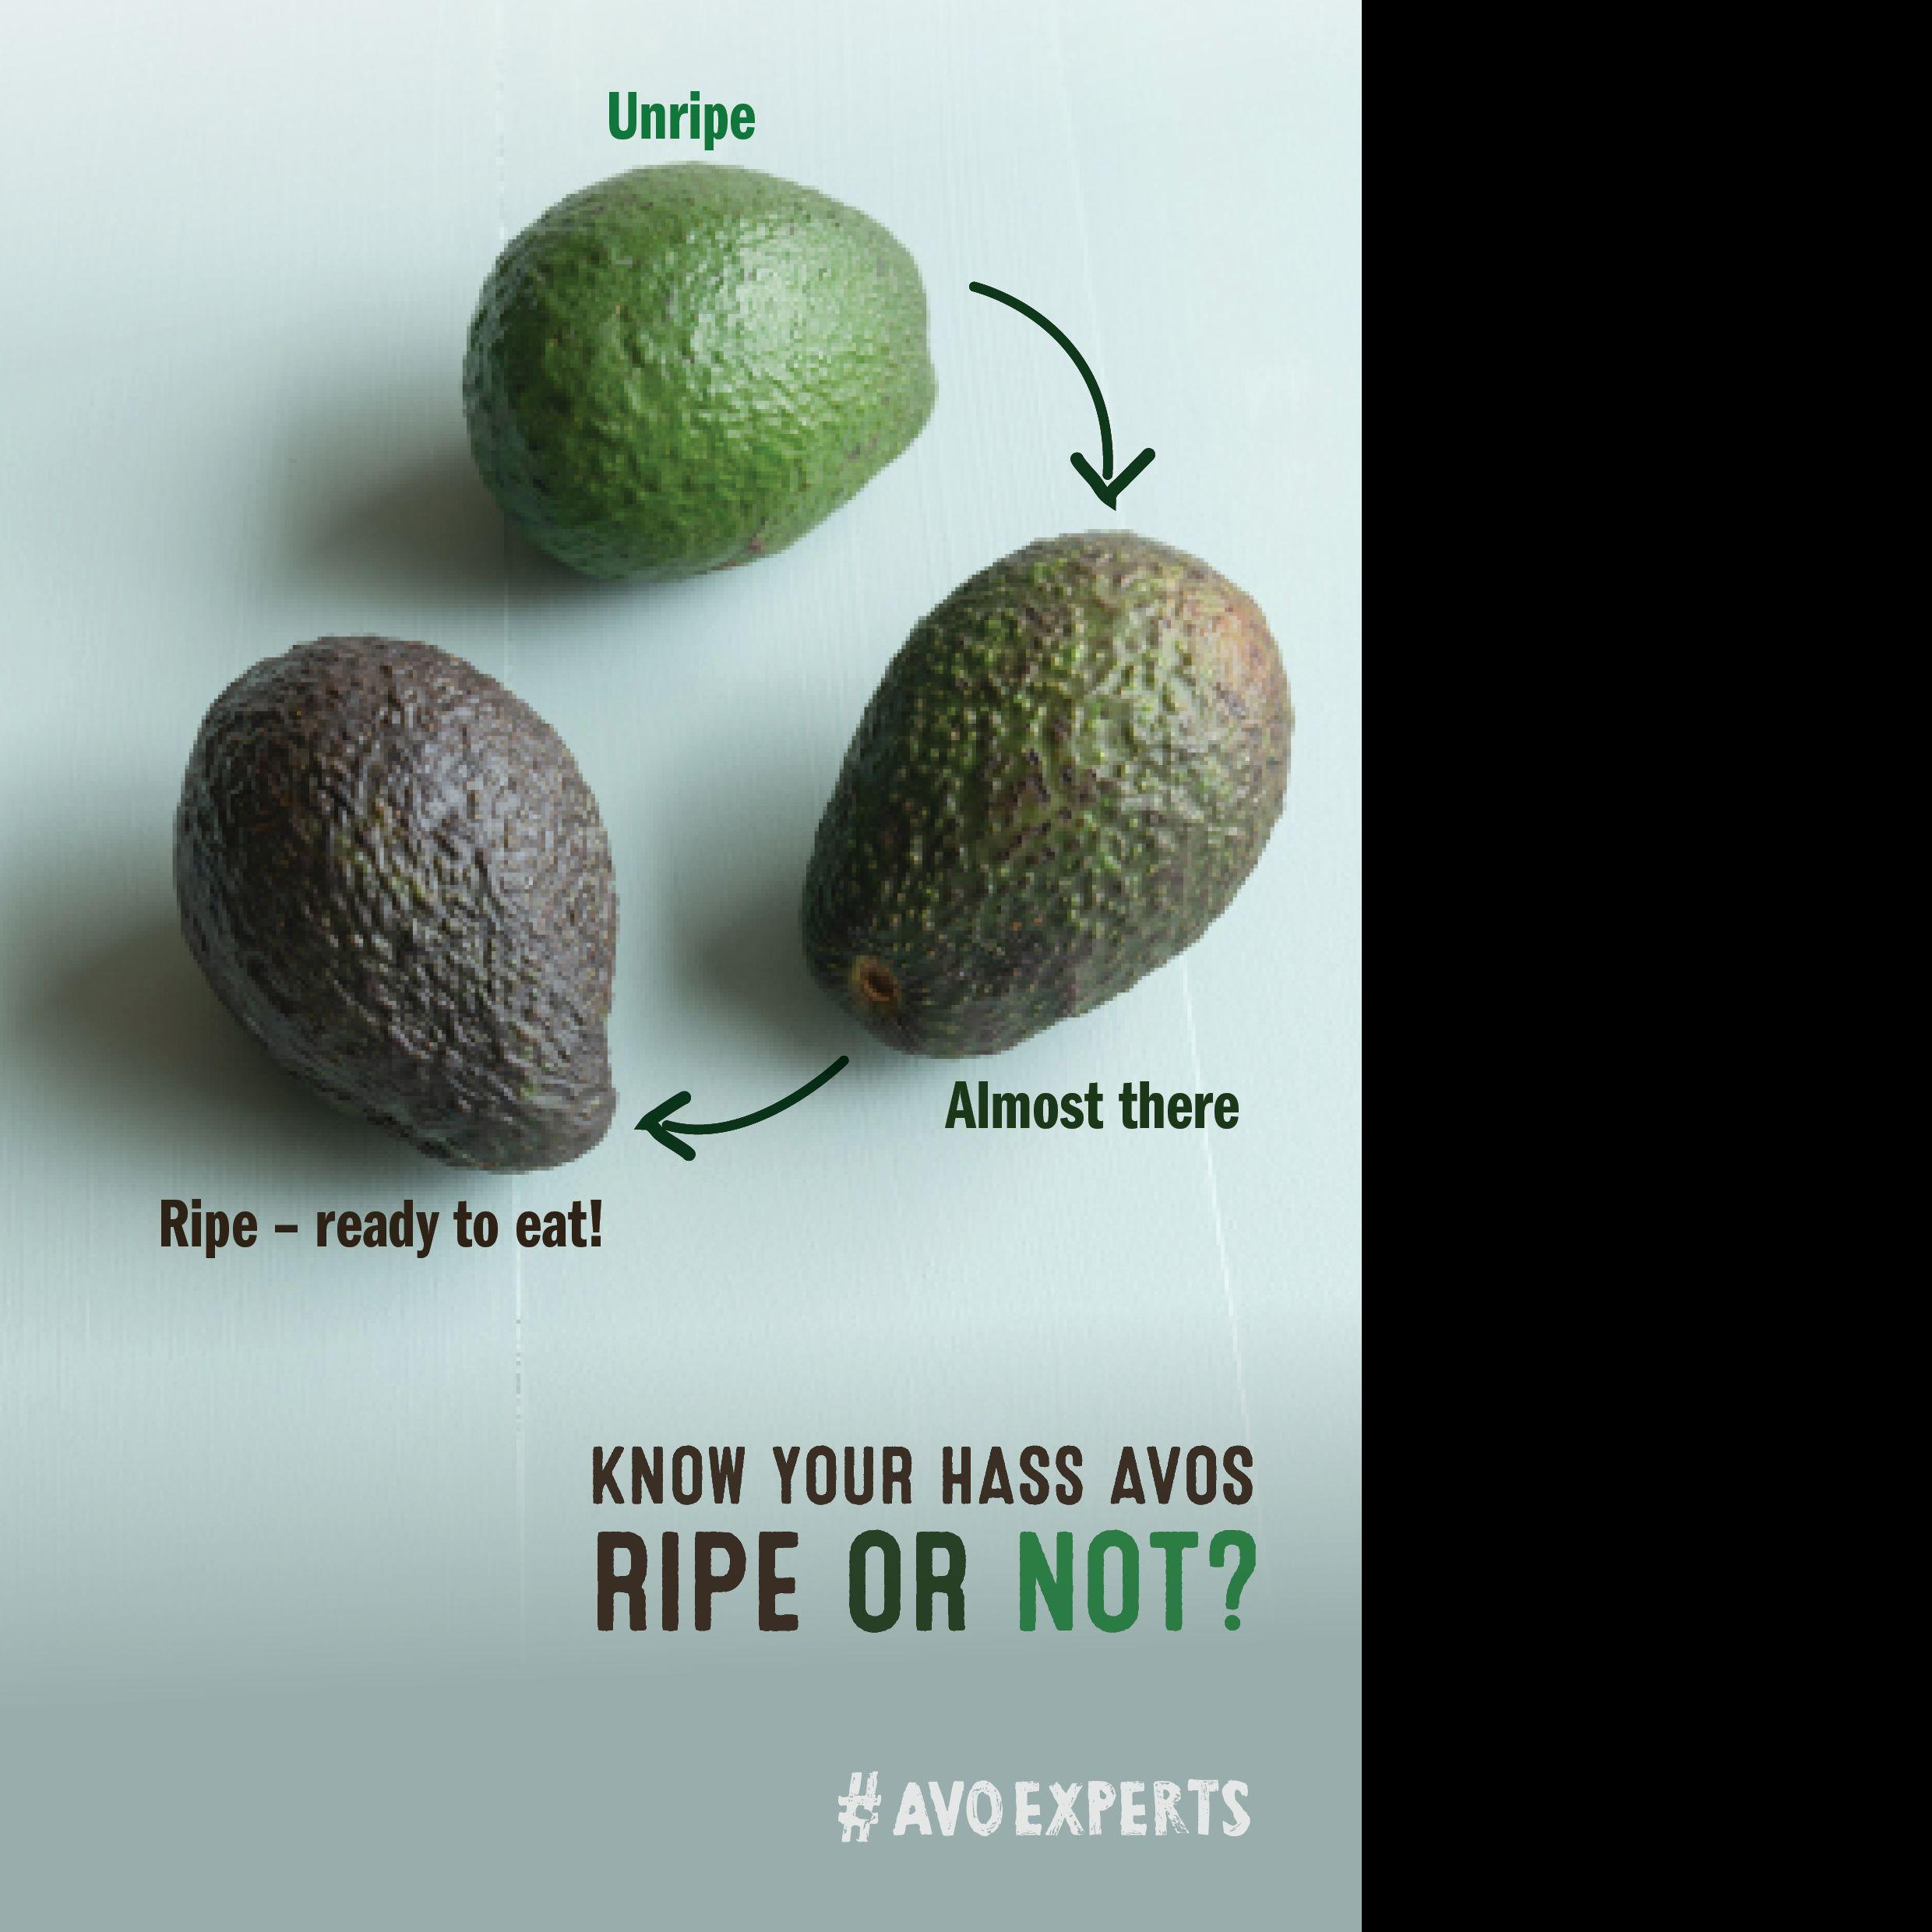almost: (800, 529, 1293, 1062)
ripe: (175, 637, 619, 1175)
unripe: (464, 163, 932, 587)
